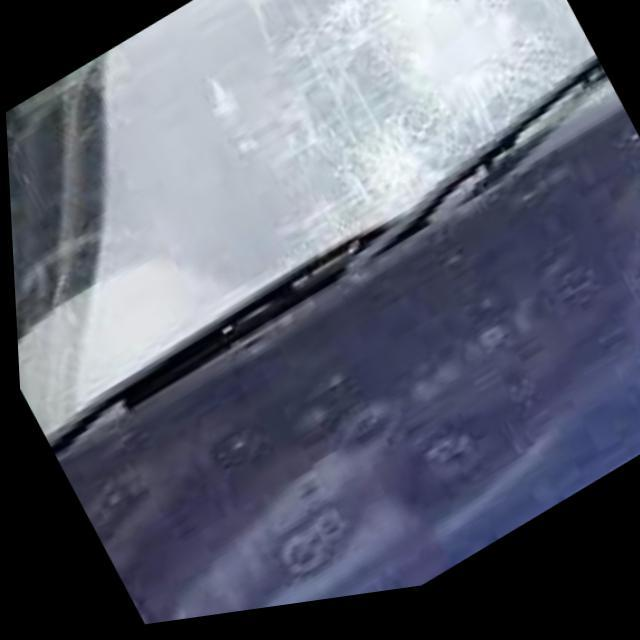glass shatter: (270, 0, 581, 253)
no part: (105, 249, 640, 628)
